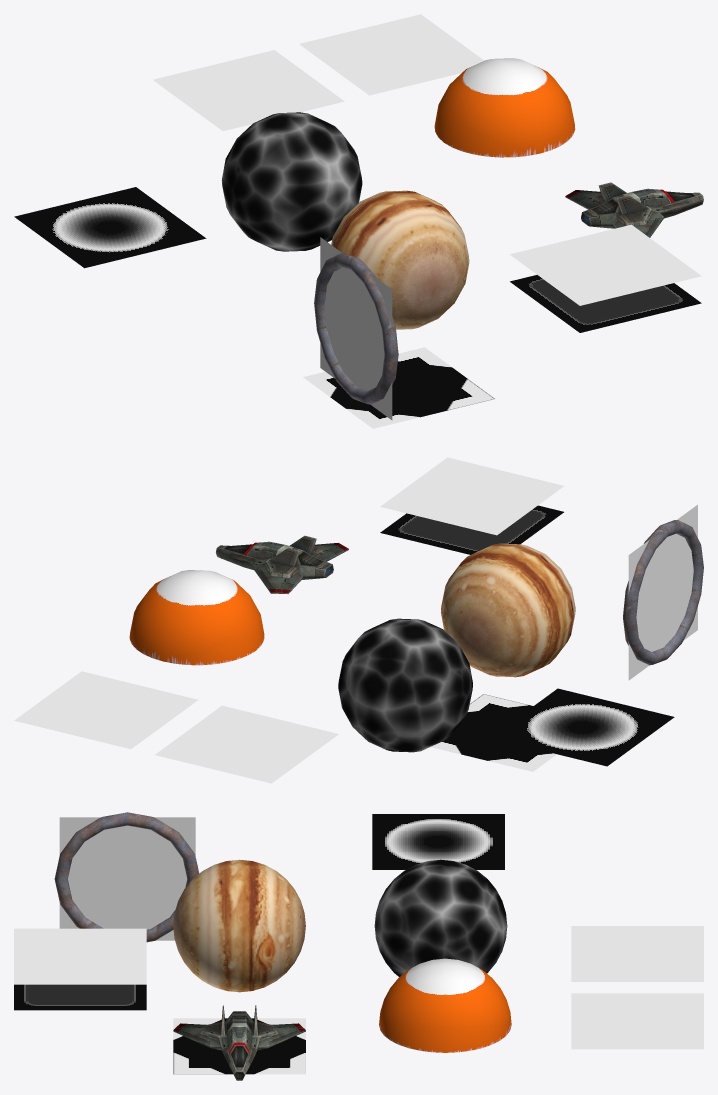
The model's file is galaxy.dae.
The picture shows the model from 3 angles, top to bottom: view 1: azimuth 30°, elevation 25°; view 2: azimuth 150°, elevation 25°; view 3: azimuth 270°, elevation 25°; orthographic projection. The views are drawn at different scales.
Visible parts, largest first — view 1: Shield, Planet, Atmosphere, Gate, MapCursor, Particle, GuideLine, Arrow, Selection, Map, Ship; view 2: Shield, Planet, Atmosphere, Gate, MapCursor, Particle, GuideLine, Arrow, Selection, Ship, Map; view 3: Gate, Planet, Shield, Atmosphere, GuideLine, MapCursor, Arrow, Particle, Selection, Ship, Map.
Boxes of the visible parts, left/top/right/bottom form: Shield: left=221, top=112, right=362, bottom=251; Planet: left=331, top=190, right=469, bottom=329; Atmosphere: left=434, top=58, right=575, bottom=157; Gate: left=314, top=237, right=398, bottom=420; MapCursor: left=510, top=224, right=701, bottom=305; Particle: left=14, top=187, right=206, bottom=268; GuideLine: left=299, top=14, right=484, bottom=95; Arrow: left=153, top=50, right=344, bottom=131; Selection: left=303, top=347, right=494, bottom=428; Map: left=510, top=275, right=701, bottom=332; Ship: left=565, top=182, right=703, bottom=237; Shield: left=338, top=618, right=472, bottom=752; Planet: left=441, top=543, right=575, bottom=677; Atmosphere: left=129, top=570, right=264, bottom=665; Gate: left=623, top=504, right=703, bottom=680; MapCursor: left=380, top=457, right=563, bottom=535; Particle: left=490, top=688, right=674, bottom=766; GuideLine: left=14, top=671, right=198, bottom=749; Arrow: left=155, top=705, right=338, bottom=783; Selection: left=431, top=694, right=556, bottom=771; Ship: left=216, top=535, right=348, bottom=593; Map: left=380, top=505, right=563, bottom=554; Gate: left=54, top=812, right=199, bottom=942; Planet: left=173, top=859, right=305, bottom=992; Shield: left=374, top=859, right=507, bottom=976; Atmosphere: left=379, top=958, right=511, bottom=1052; GuideLine: left=571, top=993, right=703, bottom=1049; MapCursor: left=14, top=928, right=146, bottom=984; Arrow: left=571, top=926, right=703, bottom=981; Particle: left=372, top=814, right=504, bottom=869; Selection: left=173, top=1018, right=305, bottom=1074; Ship: left=173, top=1005, right=305, bottom=1080; Map: left=14, top=984, right=146, bottom=1010.
Bounding box in the file's own units: 4.47 × 5.2 × 1.55.
